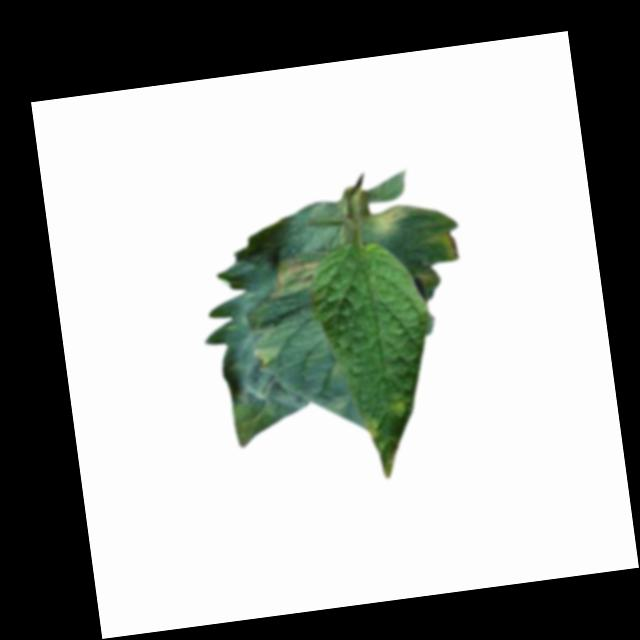Leaf_Mold: (266, 254, 325, 300), (365, 203, 407, 236), (428, 227, 460, 262), (254, 343, 280, 371), (361, 417, 386, 445), (389, 398, 412, 423)
